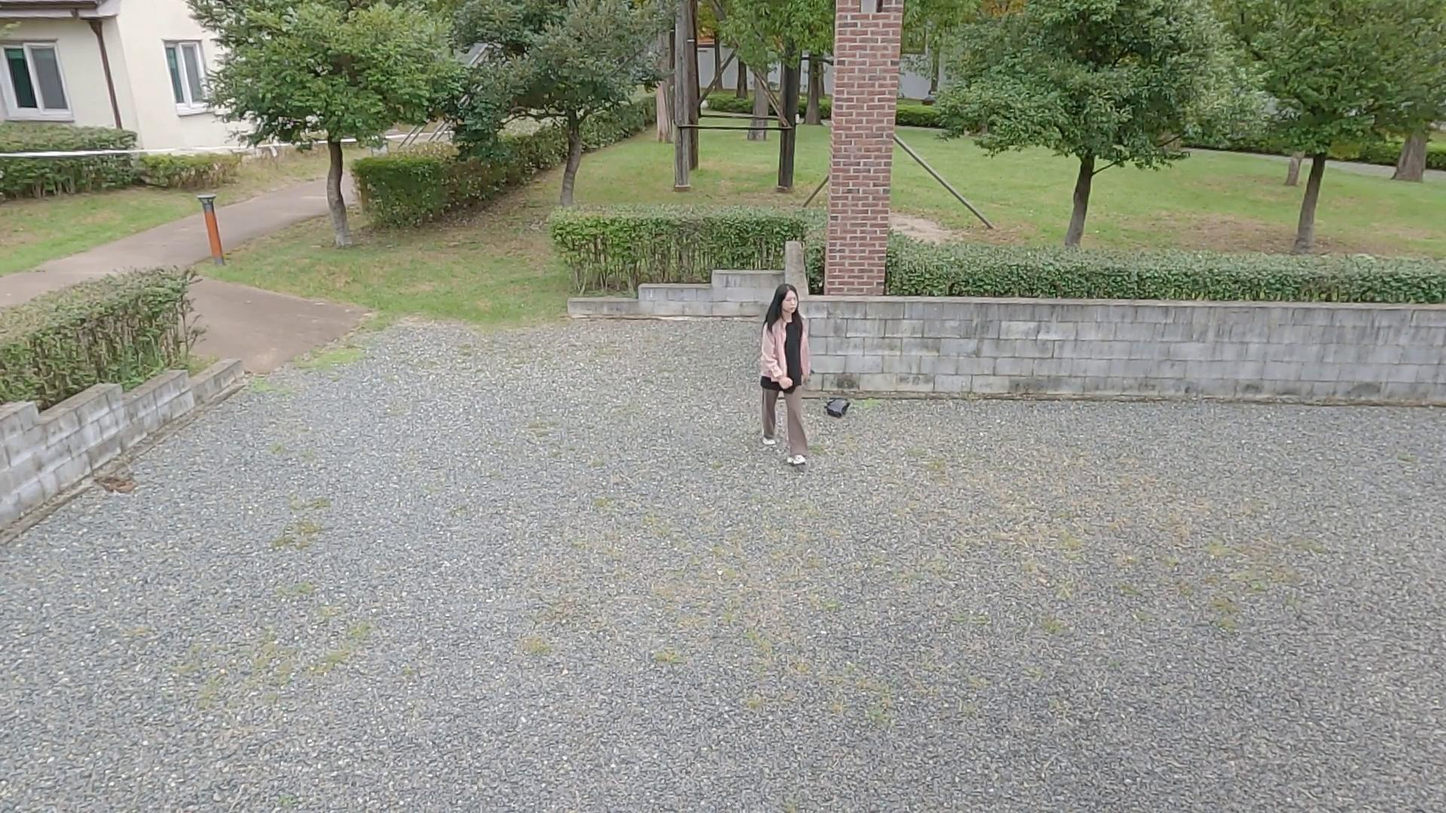person: (761, 280, 815, 463)
trash: (823, 391, 853, 422)
